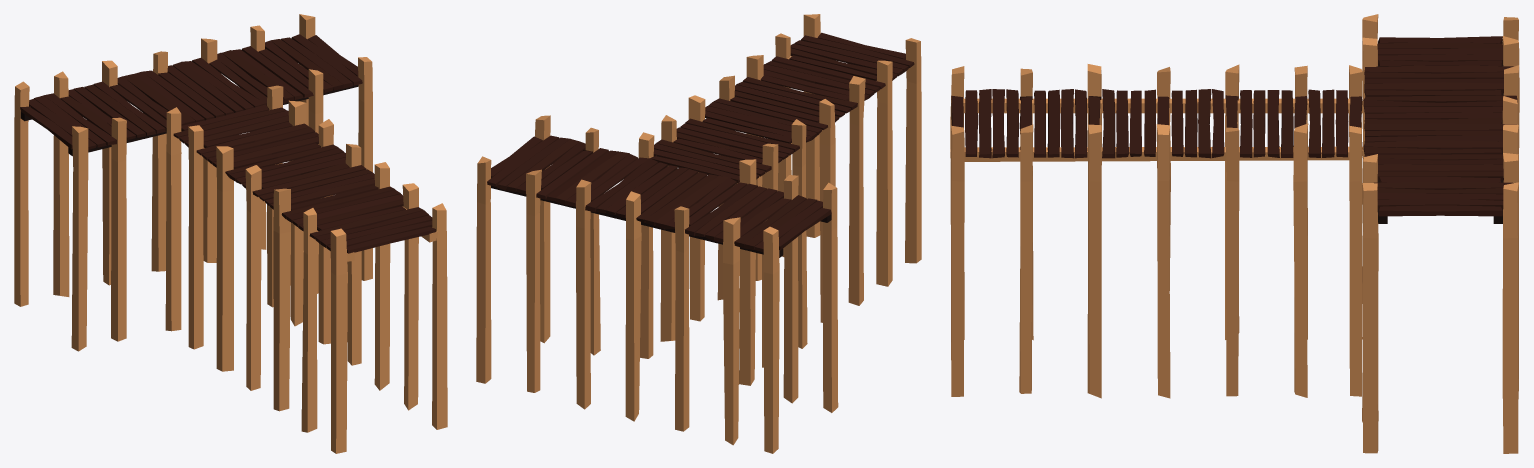
The model's file is most1.obj.
3 renders of one model, left to right at view 1: azimuth 30°, elevation 25°; view 2: azimuth 150°, elevation 25°; view 3: azimuth 270°, elevation 25°, orthographic. The views are drawn at different scales.
Visible parts, largest first — view 1: Plane.001, Plane.003, Plane.002, Plane, Cube.001; view 2: Plane.003, Plane.001, Plane.002, Plane, Cube.001; view 3: Plane.001, Plane.002, Plane, Plane.003, Cube.
Part boxes in pixels (x1,y1,x2,y2): Plane.001: [165, 85, 447, 453]; Plane.003: [14, 14, 372, 351]; Plane.002: [20, 34, 362, 149]; Plane: [173, 104, 435, 253]; Cube.001: [20, 85, 358, 155]; Plane.003: [476, 115, 838, 453]; Plane.001: [638, 14, 921, 385]; Plane.002: [487, 135, 831, 252]; Plane: [650, 32, 914, 182]; Cube.001: [491, 185, 831, 257]; Plane.001: [950, 64, 1362, 398]; Plane.002: [1363, 36, 1517, 216]; Plane: [951, 89, 1362, 158]; Plane.003: [1362, 14, 1519, 453]; Cube: [950, 98, 1362, 161].
Bounding box in the file's own units: 4.4 × 3.18 × 6.07.
